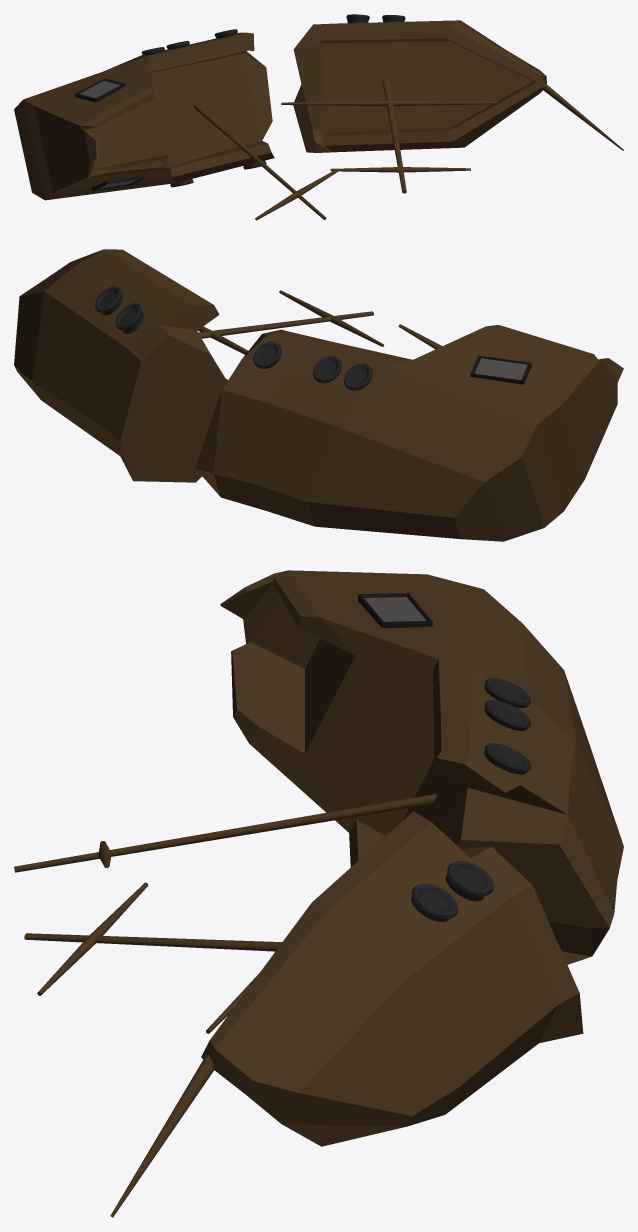
File: BreakeShip.fbx
3 renders of one model, top to bottom at view 1: azimuth 30°, elevation 25°; view 2: azimuth 150°, elevation 25°; view 3: azimuth 270°, elevation 25°, orthographic. The views are drawn at different scales.
Parts seen in each view (by area): view 1: corpus, corpus.003, Balka2.004, Balka1.001, Balka1.002, okno.001, Balka2.003, Cylinder.016, Balka2.001, okno; view 2: corpus, corpus.003, okno.001, Balka1.002, Cylinder.010, Balka2.003, Cylinder.012, Cylinder.014, Cylinder.015, Cylinder.008; view 3: corpus, corpus.003, Balka1.001, Balka1.002, okno.001, Cylinder.016, Cylinder.010, Cylinder.008, Balka2.003, Cylinder.012, Cylinder.014, Cylinder.015.
Boxes of the visible parts, x1,y1,x2,y2 form: corpus: [14, 32, 274, 200]; corpus.003: [293, 20, 546, 152]; Balka2.004: [281, 100, 498, 105]; Balka1.001: [194, 103, 326, 219]; Balka1.002: [382, 77, 406, 193]; okno.001: [74, 78, 125, 102]; Balka2.003: [330, 167, 470, 172]; Cylinder.016: [542, 82, 623, 150]; Balka2.001: [255, 168, 339, 220]; okno: [92, 176, 145, 190]; corpus: [195, 325, 623, 541]; corpus.003: [14, 249, 228, 482]; okno.001: [470, 355, 531, 384]; Balka1.002: [198, 311, 373, 338]; Cylinder.010: [115, 303, 144, 333]; Balka2.003: [279, 290, 384, 346]; Cylinder.012: [253, 341, 281, 369]; Cylinder.014: [313, 356, 341, 383]; Cylinder.015: [344, 363, 372, 390]; Cylinder.008: [95, 286, 122, 315]; corpus: [220, 570, 623, 964]; corpus.003: [201, 811, 583, 1146]; Balka1.001: [14, 793, 436, 872]; Balka1.002: [24, 933, 282, 951]; okno.001: [358, 593, 432, 628]; Cylinder.016: [110, 1054, 213, 1217]; Cylinder.010: [445, 861, 493, 901]; Cylinder.008: [411, 883, 457, 921]; Balka2.003: [37, 882, 148, 995]; Cylinder.012: [484, 743, 530, 774]; Cylinder.014: [484, 700, 530, 730]; Cylinder.015: [484, 677, 530, 707].
Size of the model in its own units: 1304 by 355 by 745.
